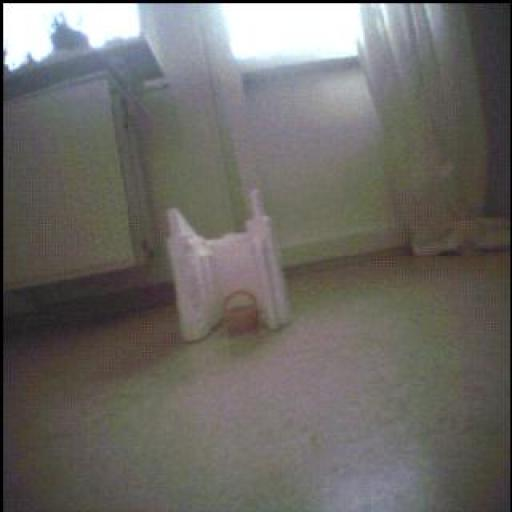Basket: (225, 291, 260, 336)
